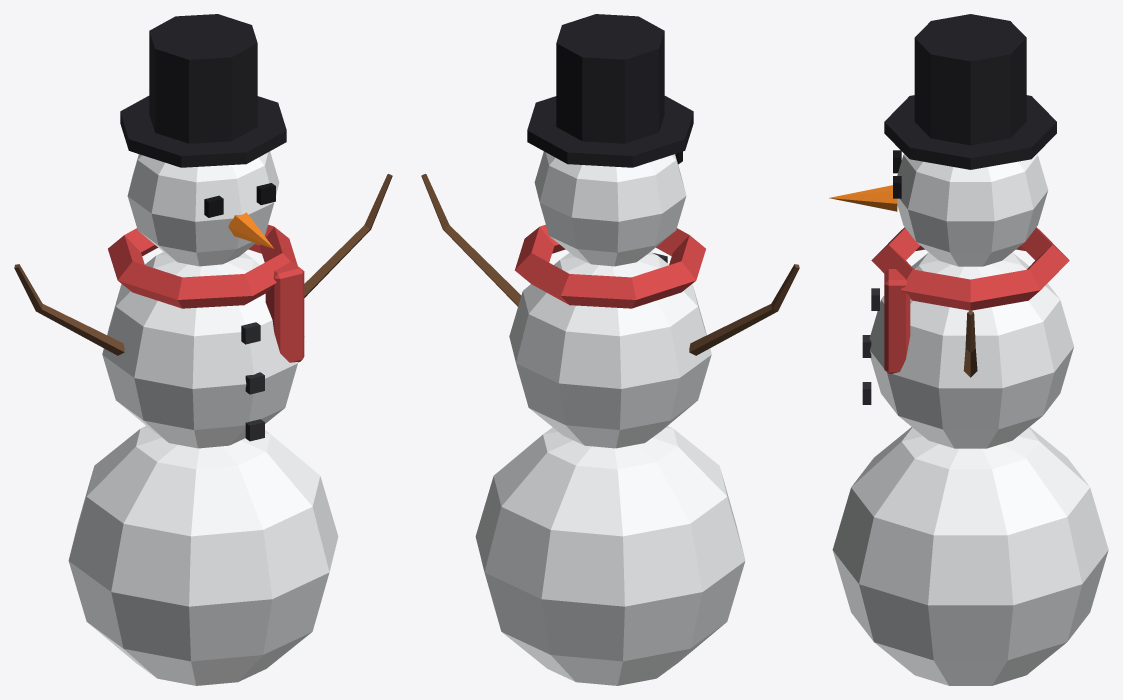
Rendered from SnowmanDecor.fbx.
3 views of the same model, side by side, from view 1: azimuth 30°, elevation 25°; view 2: azimuth 150°, elevation 25°; view 3: azimuth 270°, elevation 25° (orthographic).
Parts seen in each view (by area): view 1: SnowmanDecor; view 2: SnowmanDecor; view 3: SnowmanDecor.
Part boxes in pixels (x1=…): SnowmanDecor: x1=14, y1=14, x2=392, y2=685; SnowmanDecor: x1=421, y1=14, x2=799, y2=685; SnowmanDecor: x1=829, y1=14, x2=1108, y2=685.
Size of the model in its own units: 5.07 by 8.15 by 3.25.
Materials: 1 (1 with a texture image).
